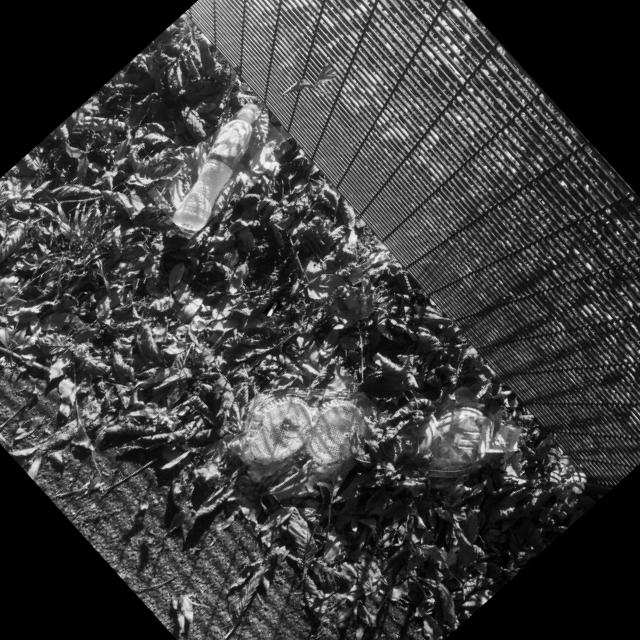Bottle cap: (238, 102, 258, 120)
Cigarette: (267, 301, 279, 316)
Clear plastic bottle: (174, 102, 258, 230)
Food container: (238, 387, 373, 469), (400, 400, 492, 476)
Paper bag: (478, 424, 522, 452)
